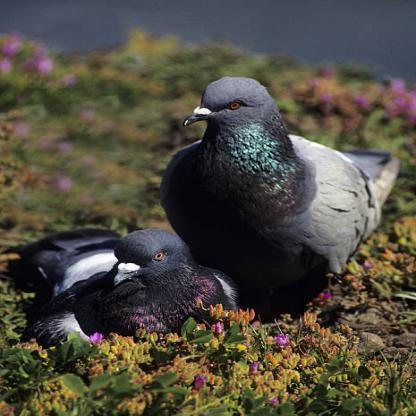Flying Rat: (171, 84, 405, 303), (21, 210, 254, 377)
